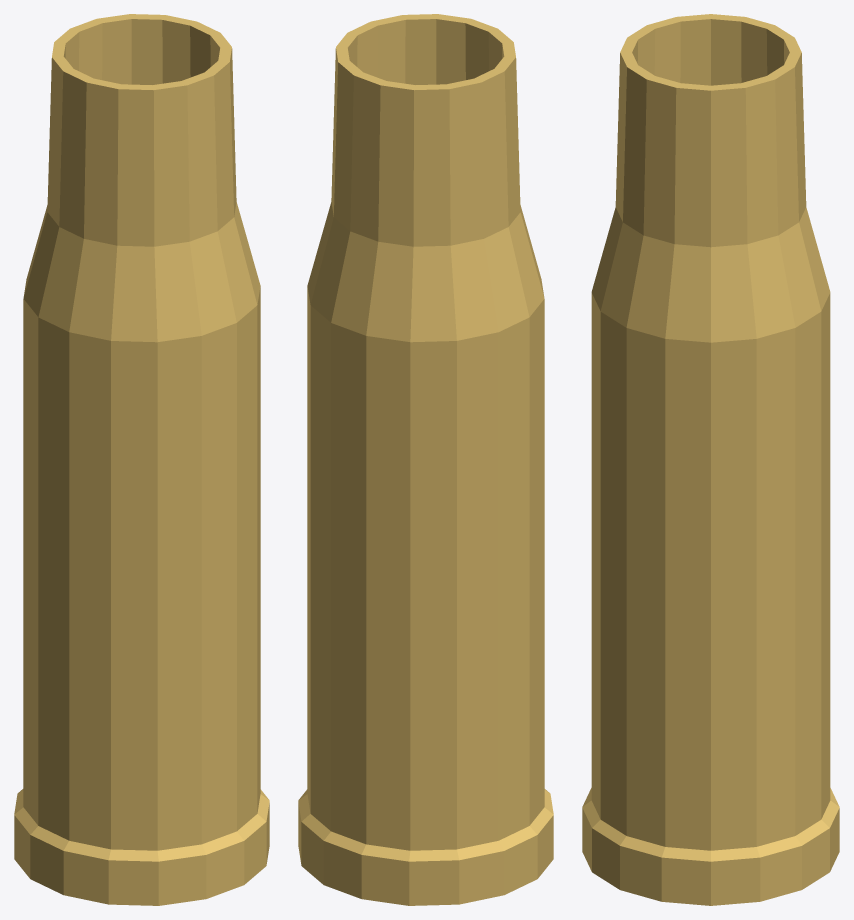
The model's file is 4.6x30mm Shell.fbx.
3 views of the same model, side by side, from view 1: azimuth 30°, elevation 25°; view 2: azimuth 150°, elevation 25°; view 3: azimuth 270°, elevation 25° (orthographic).
Visible parts, largest first — view 1: Cylinder.012; view 2: Cylinder.012; view 3: Cylinder.012.
Boxes of the visible parts, x1,y1,x2,y2 form: Cylinder.012: [14, 14, 269, 905]; Cylinder.012: [298, 14, 553, 905]; Cylinder.012: [582, 14, 839, 905].
Size of the model in its own units: 0.8899 by 3.06 by 0.8899.
